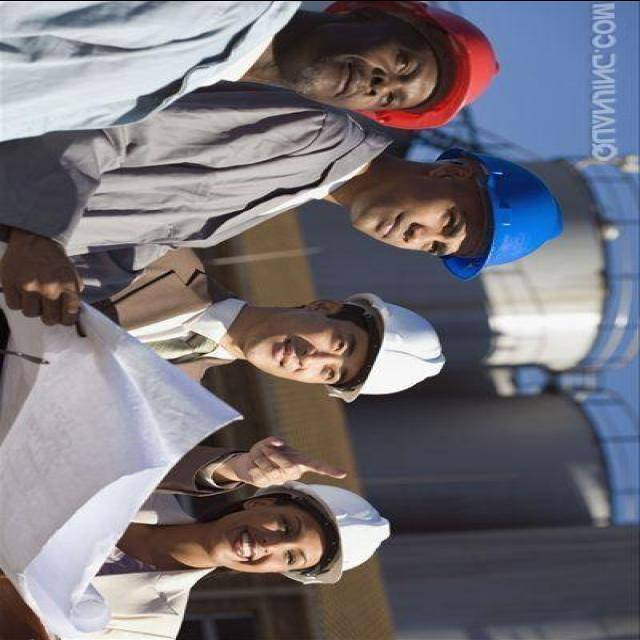helmet: (347, 0, 510, 130), (440, 141, 564, 285), (328, 280, 450, 416), (277, 470, 388, 594)
